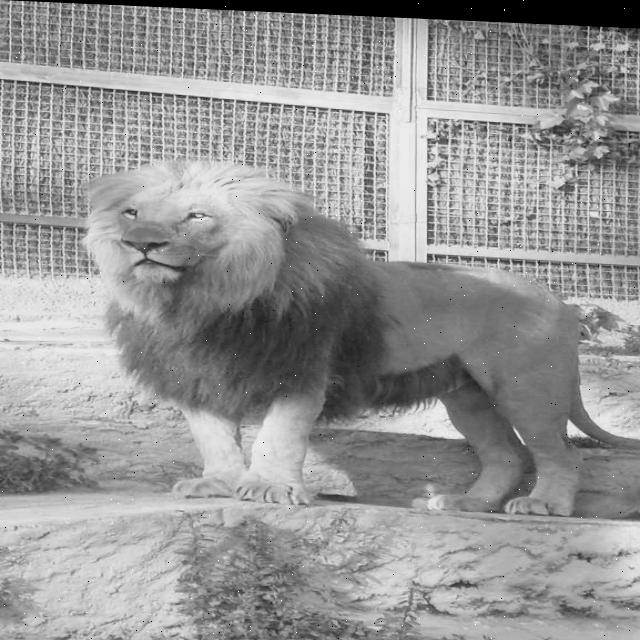Lion: (131, 181, 590, 548)
